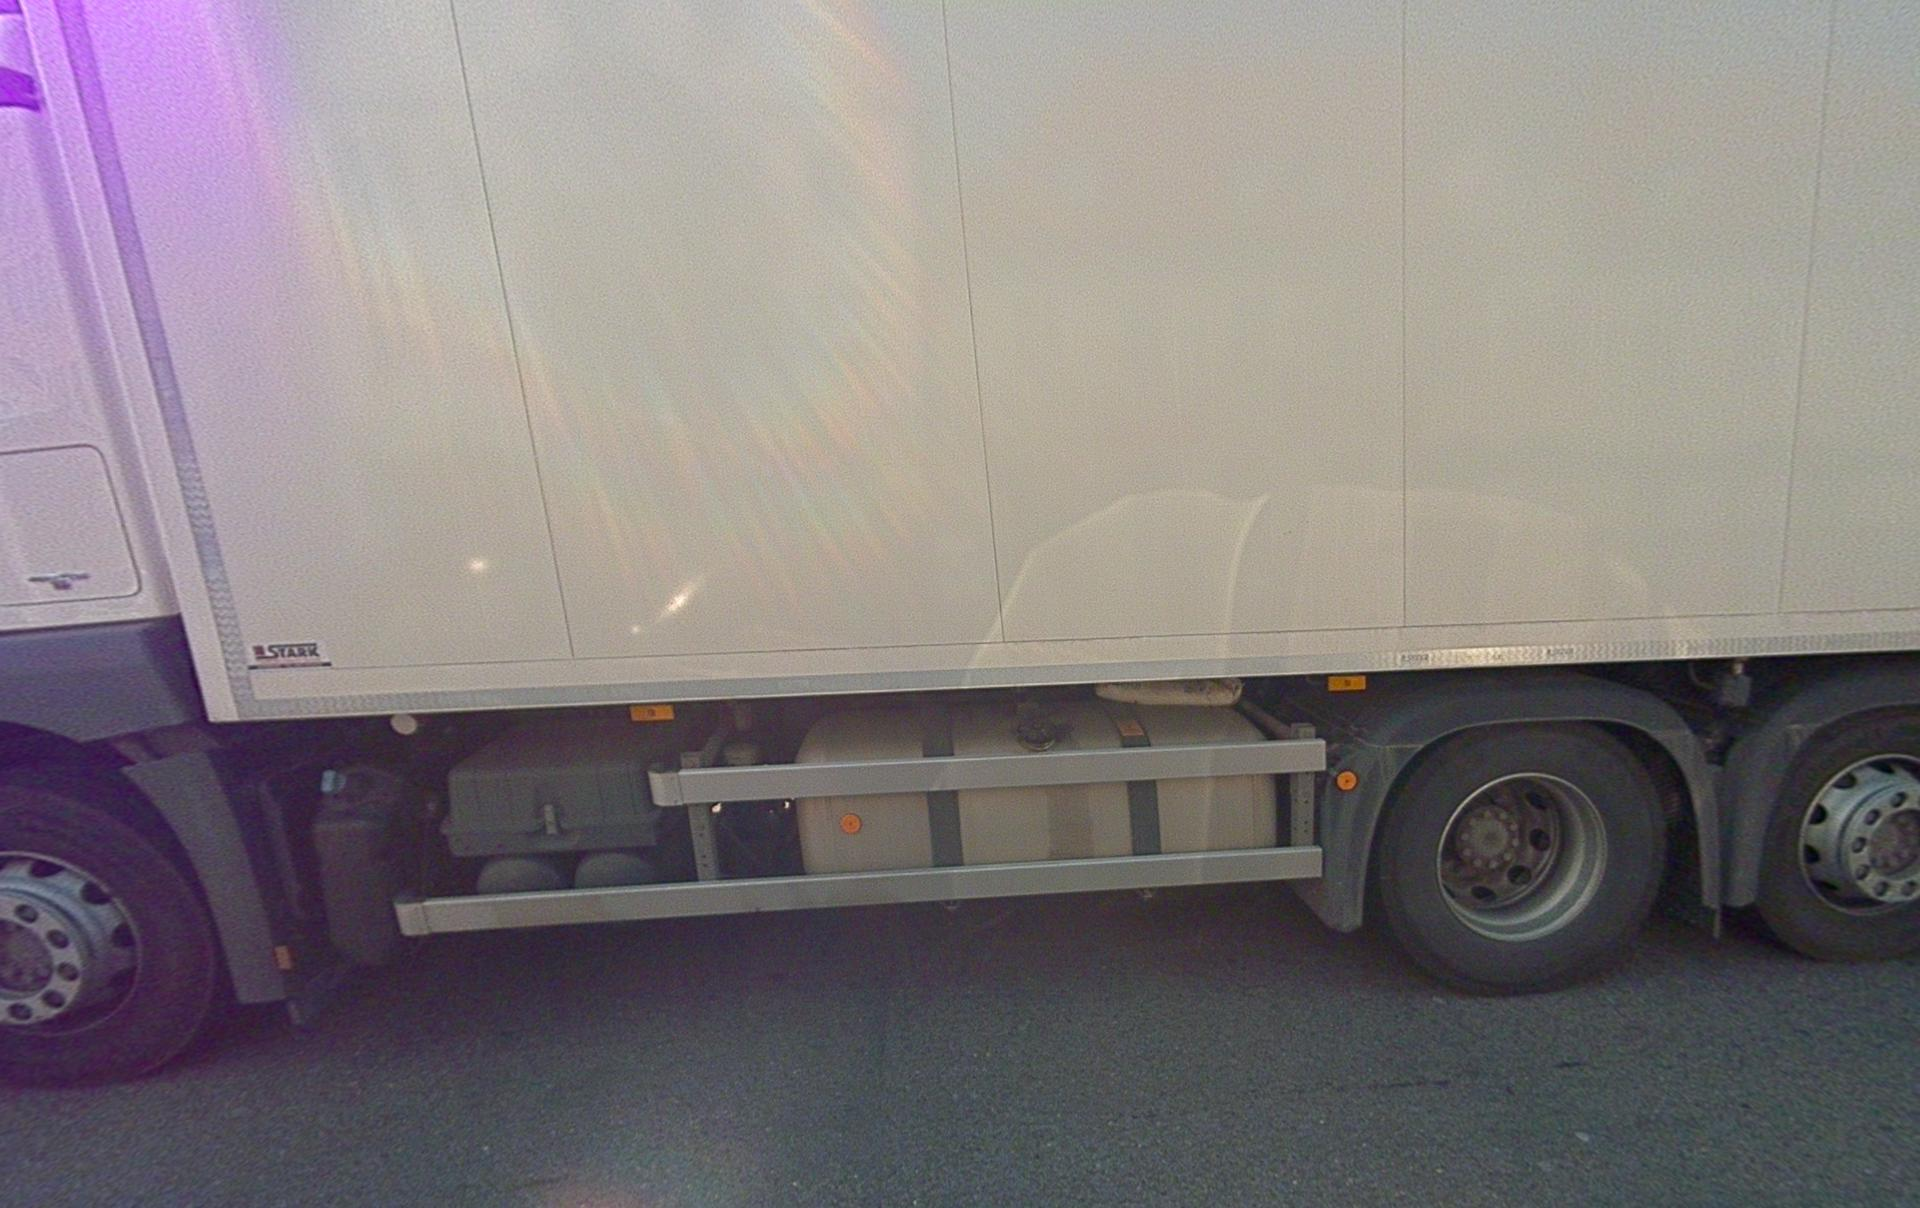car: (3, 1, 1916, 1086)
